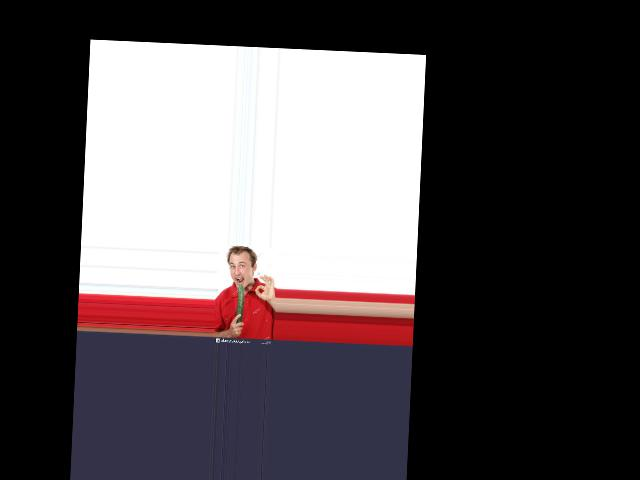cucumber: (237, 284, 244, 323)
